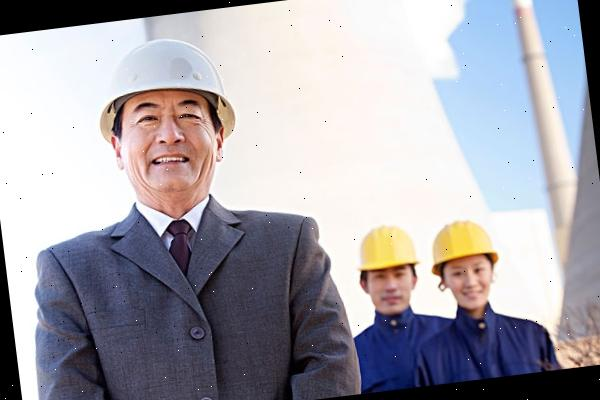helmet: (90, 27, 240, 162), (422, 214, 502, 271), (350, 220, 425, 278)
no_wear: (27, 212, 347, 400)
wear: (415, 310, 555, 386), (349, 312, 457, 394)
